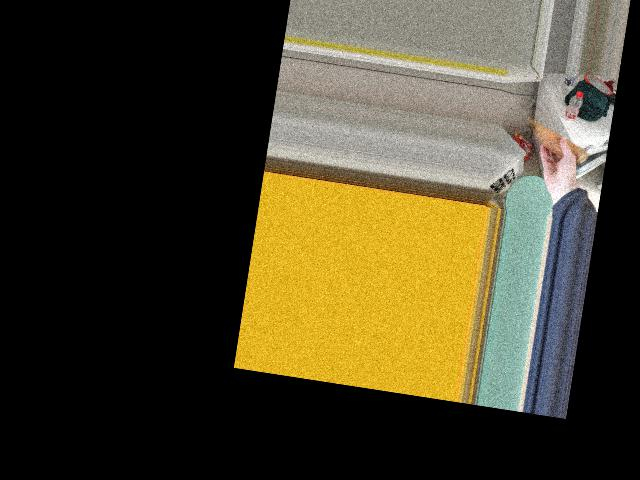sweet_potato: (536, 123, 587, 163)
